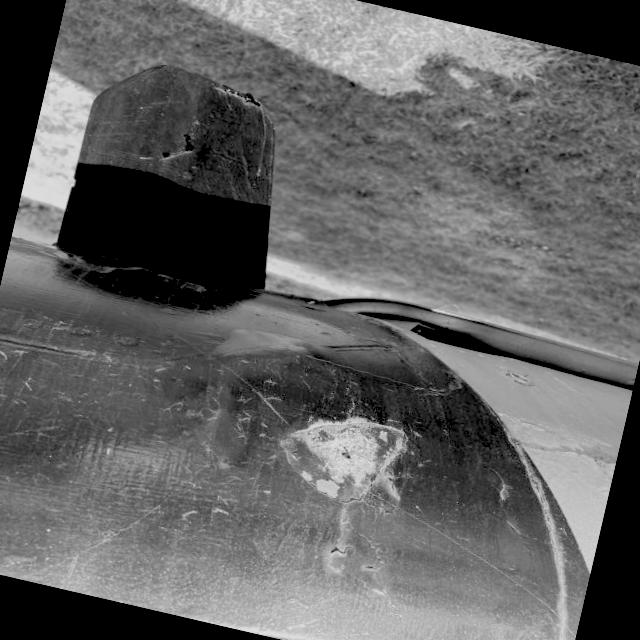crack: (320, 541, 392, 577)
dent: (258, 396, 420, 528)
